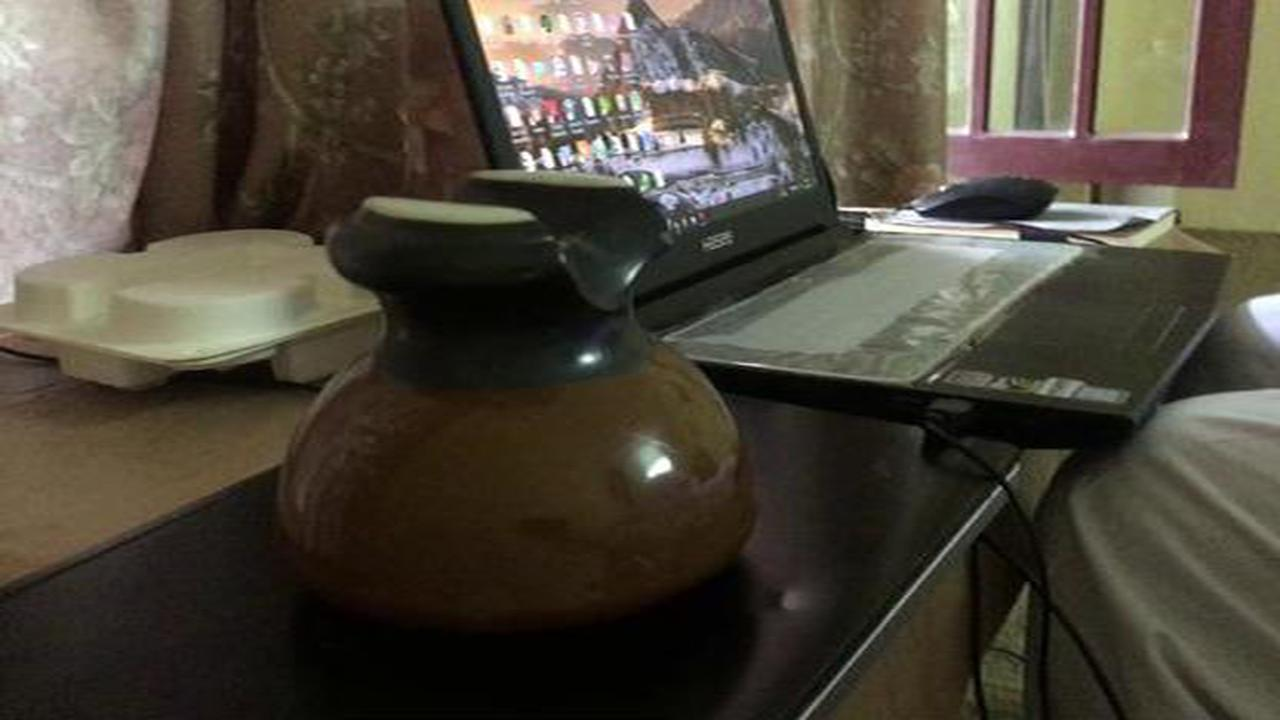insulator_pin: (259, 172, 788, 643)
